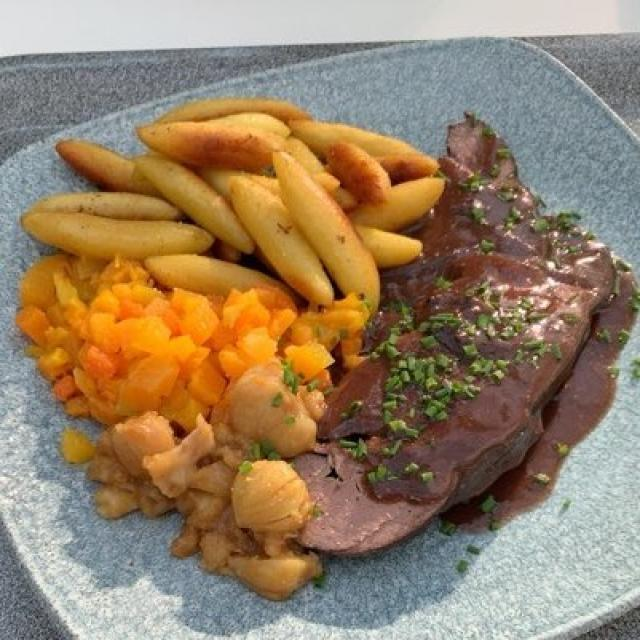nuts: (47, 373, 330, 597)
pumpkin: (15, 255, 368, 445)
sauce: (325, 174, 634, 514)
spaetzle: (28, 95, 441, 317)
